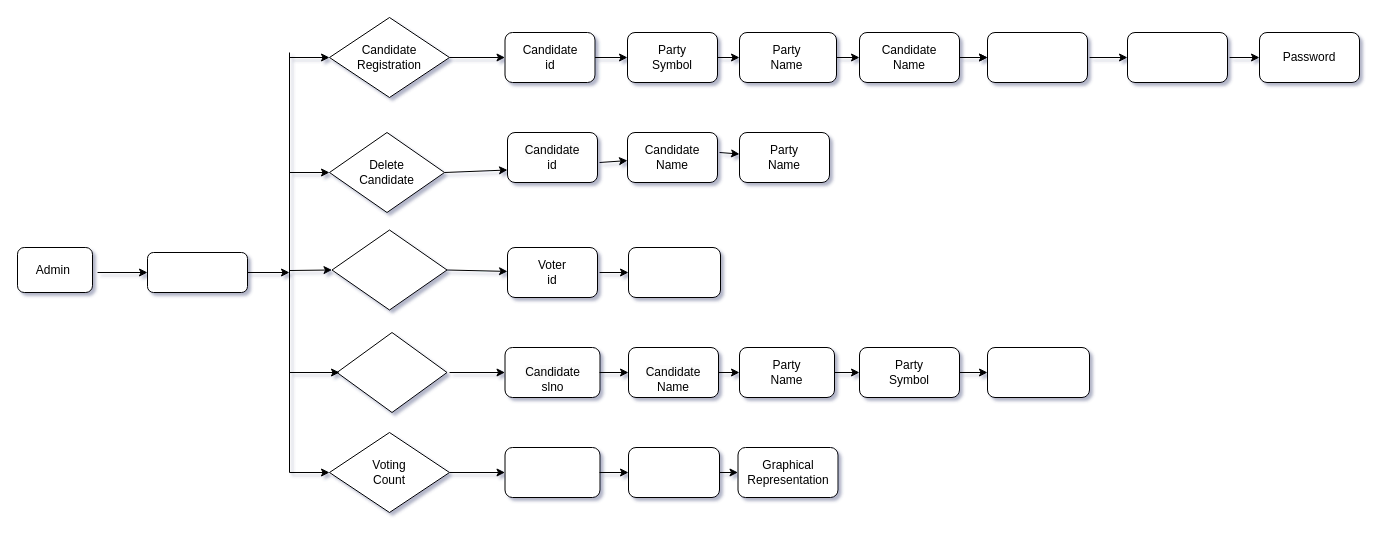
Some shapes in this 1383 by 536 pixel diagram are drawn without their labels. Here are the shapes that lost their labels. From the top down, the centre of each, then its label:
At point 1037,57: "Candidate Photo".
At point 1177,57: "Candidate Age".
At point 197,272: "Admin Dashboard".
At point 389,269: "Delete Voter".
At point 674,272: "Name".
At point 391,372: "Polling Result".
At point 1038,372: "Count".
At point 552,472: "Voted Sucessfully".
At point 674,472: "Not Voted".
